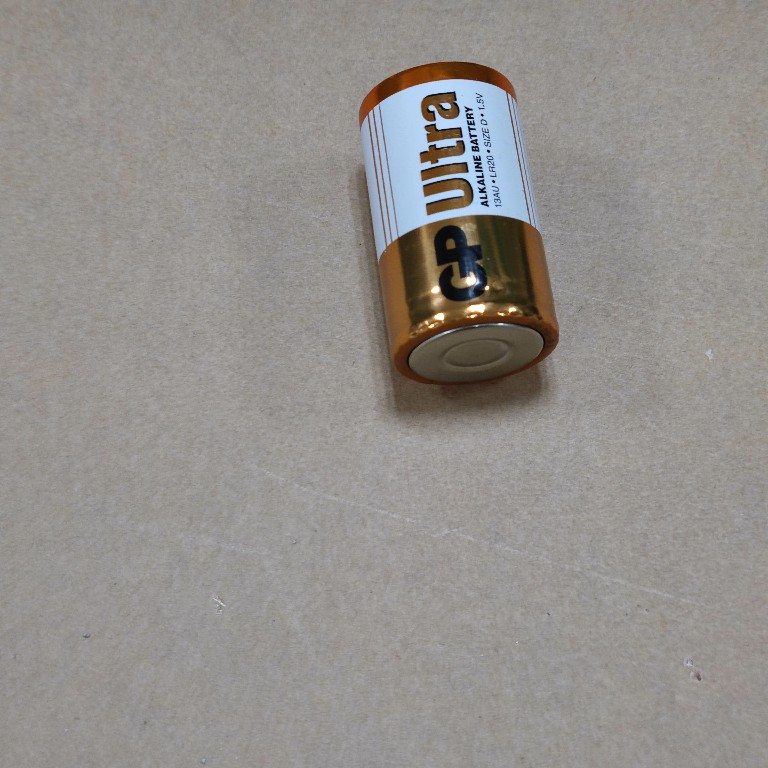charge: (354, 55, 568, 395)
